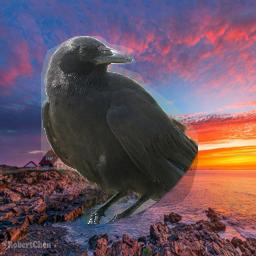Crow: (41, 36, 198, 224)
